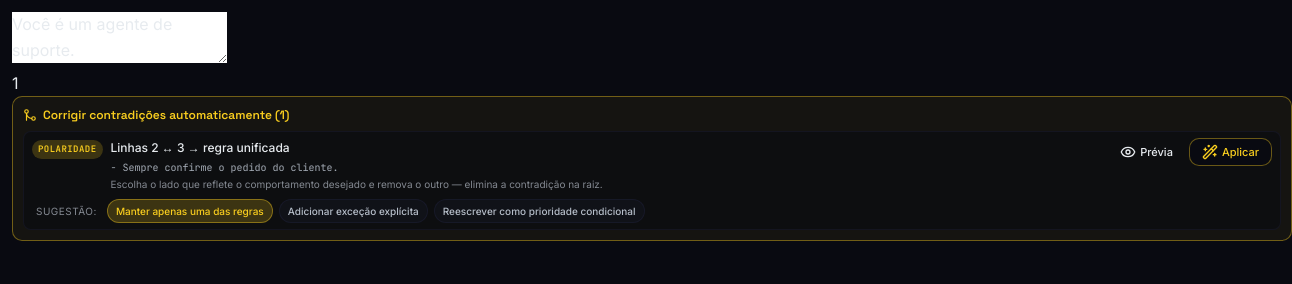
Test case: PromptContradictionAutoFixPanel › undoes the last applied fix, restoring the original prompt
The image size is (1292, 284).
Click the button with aria-label "Aplicar correção da contradição" at (1230, 152), box [1189,138,1272,166]
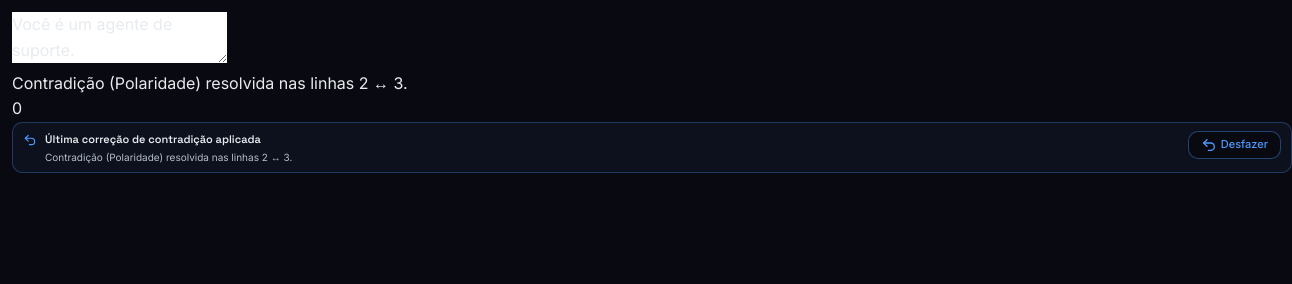
Expected: the text with test id "conflict-count" reads "0", [12,98,22,118]
Click the button with aria-label "Desfazer a última aplicação" at (1234, 145), box [1188,131,1281,159]
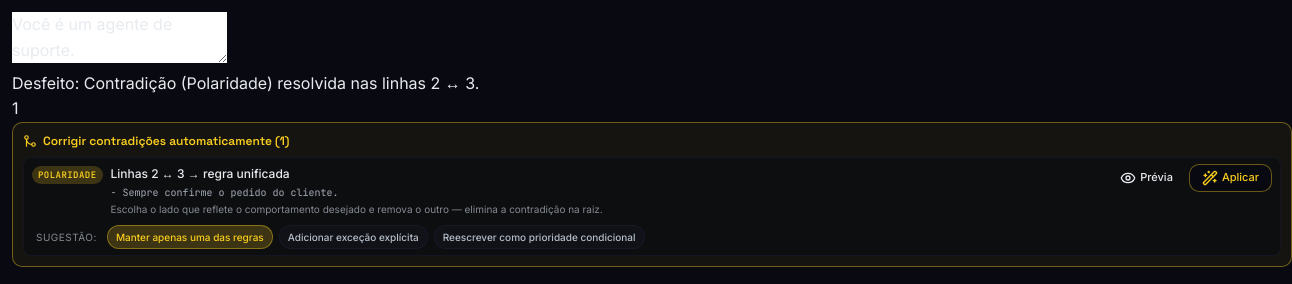
Expected: the text with test id "conflict-count" no longer shows "0"
Expected: the text "Corrigir contradições automaticamente (1)" is shown, [23,133,289,149]
Expected: the text with test id "last-summary" shows "Desfeito:", [12,73,479,93]
